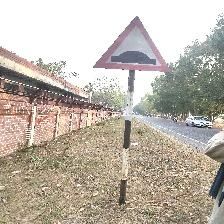Speed-breaker: (94, 19, 169, 71)
